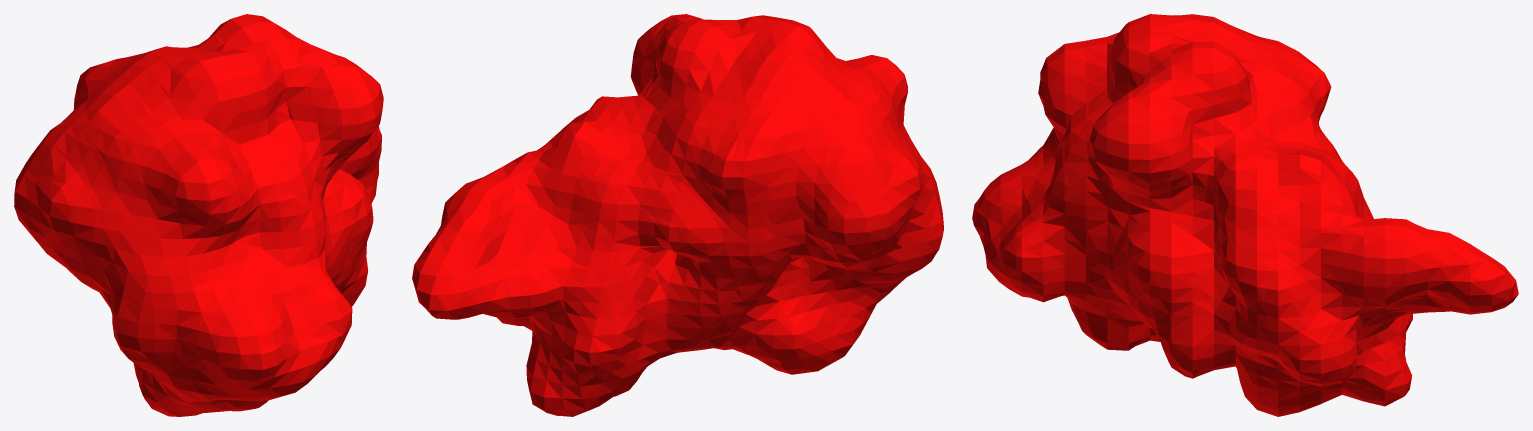
File: garD_coarse.dae
3 renders of one model, left to right at view 1: azimuth 30°, elevation 25°; view 2: azimuth 150°, elevation 25°; view 3: azimuth 270°, elevation 25°, orthographic. The views are drawn at different scales.
Visible parts, largest first — view 1: garD; view 2: garD; view 3: garD.
Part boxes in pixels (<box>): garD: <box>14,14,383,416</box>; garD: <box>412,14,943,416</box>; garD: <box>972,14,1518,416</box>.
Size of the model in its own units: 66.61 by 59.42 by 85.71.
